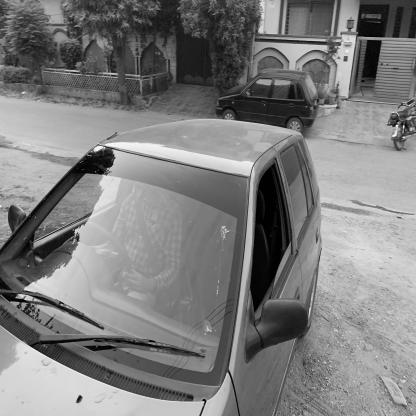seatbelt: (106, 168, 170, 278)
